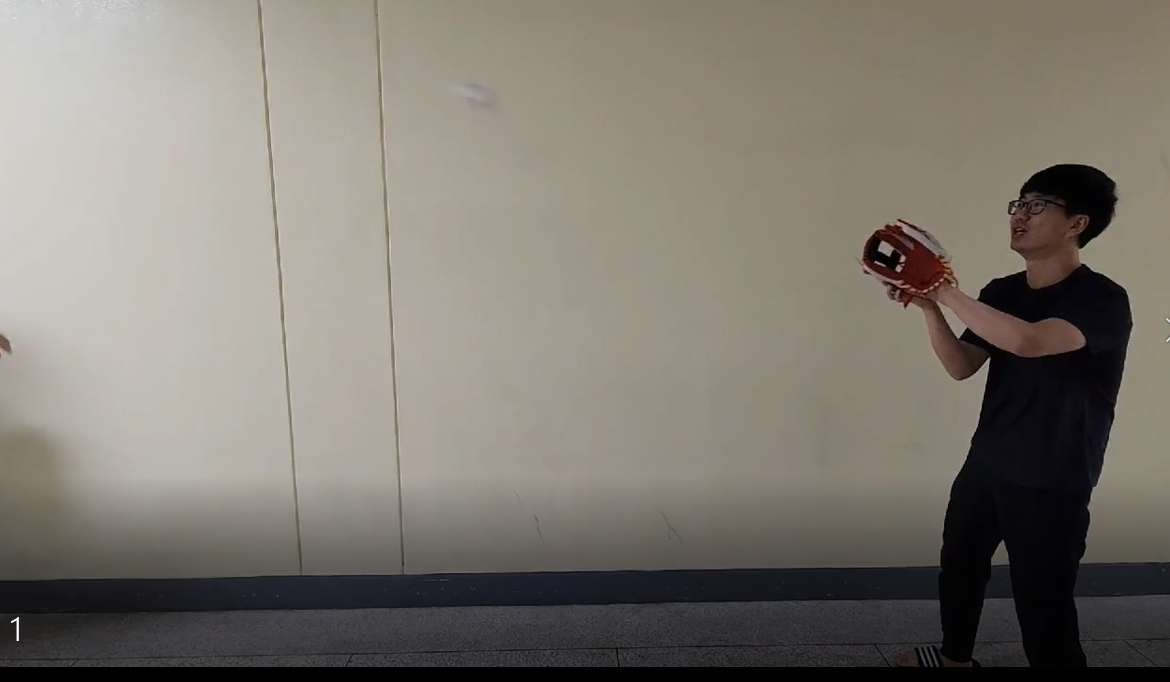ball: (449, 80, 499, 110)
